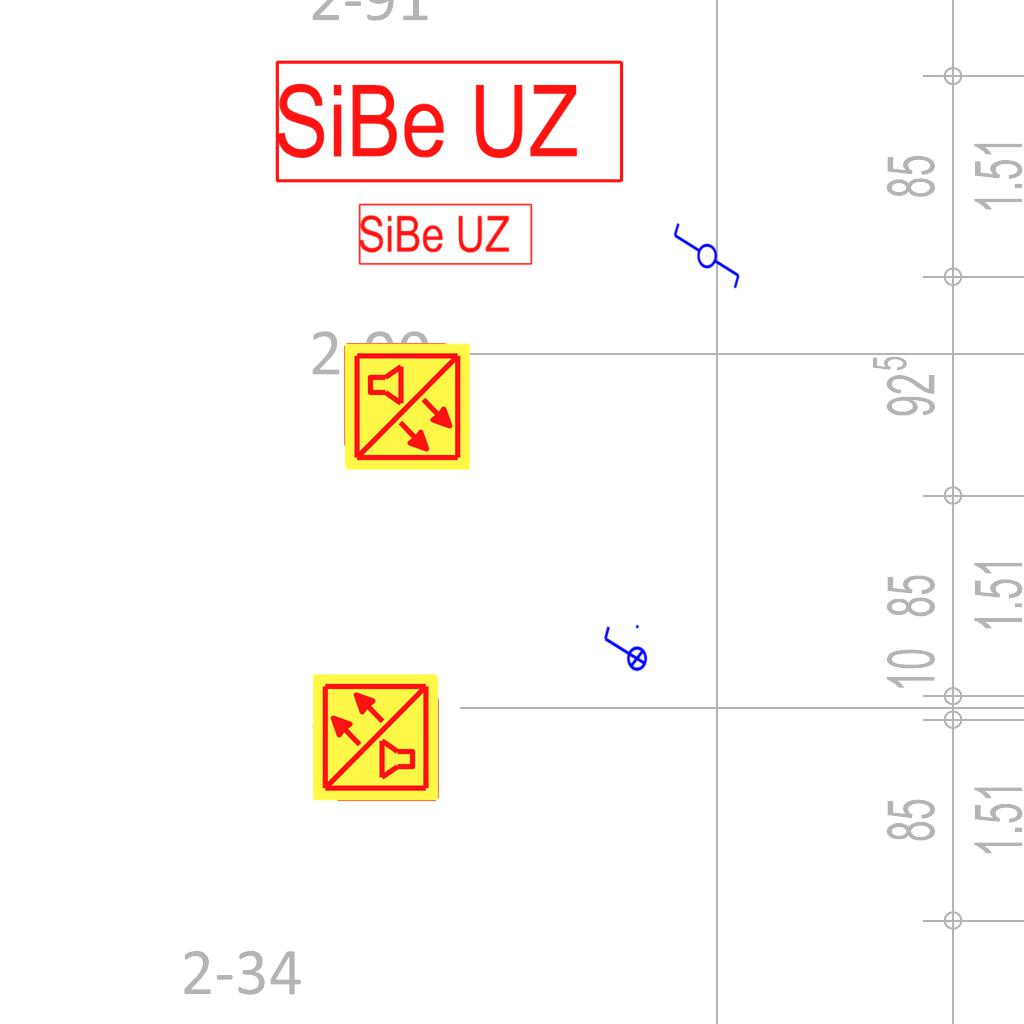Ausschalter_beleuchtet: (600, 622, 648, 678)
OKW_Multisensormelder_(Kombination_optischer_Rauch-Kahlenmonoxid_Waerme-Melder): (310, 671, 442, 803), (341, 341, 473, 473)
Wechselschalter: (670, 221, 742, 299)
Zentrale_Sicherheitsbeleuchtung: (272, 57, 629, 187), (357, 202, 535, 267)
